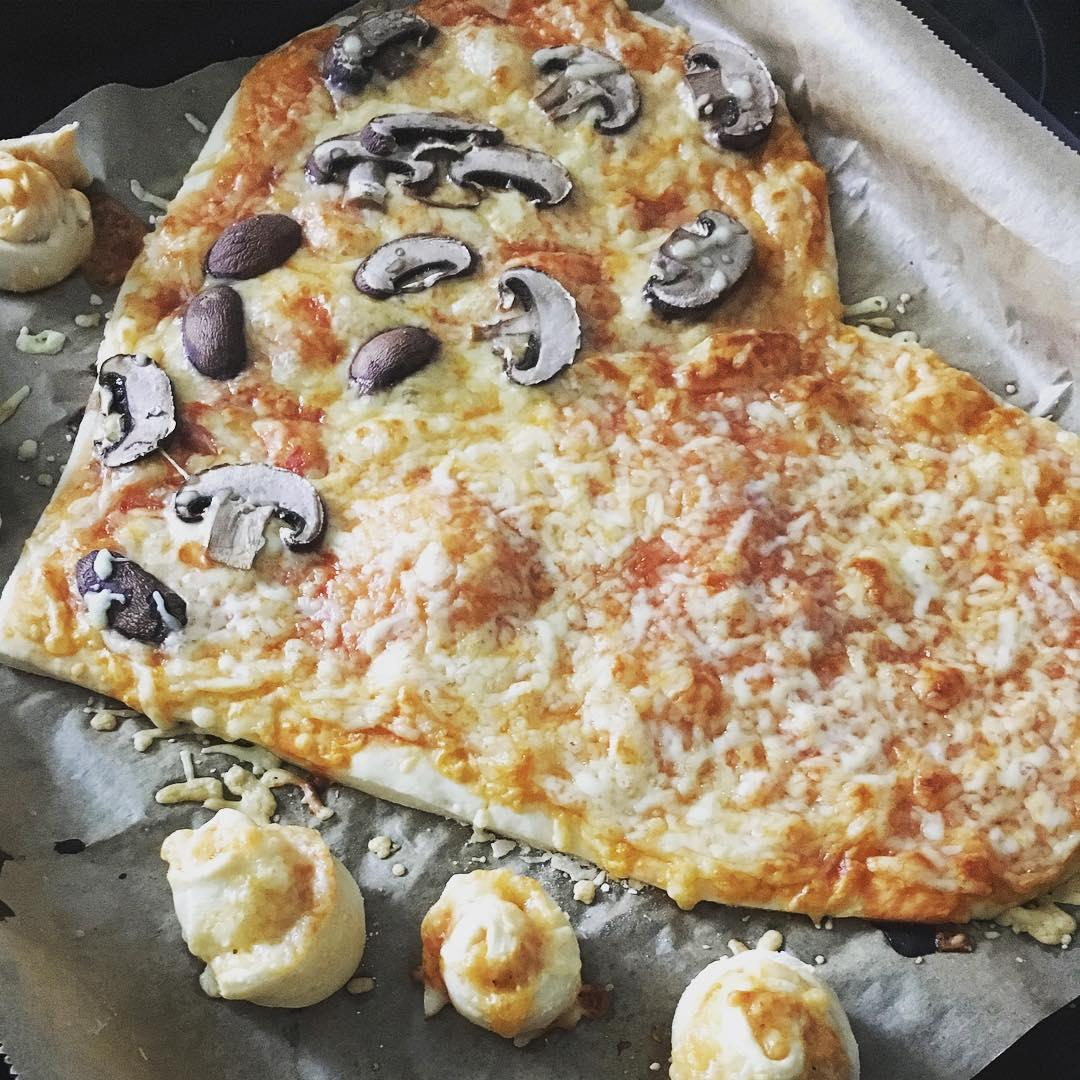Cheese: (343, 413, 1073, 737)
Mushroom: (371, 105, 576, 206), (175, 461, 346, 580), (636, 210, 755, 329), (468, 253, 571, 389), (83, 348, 177, 473), (300, 118, 435, 205), (316, 15, 453, 99), (673, 28, 769, 145), (77, 544, 190, 636), (531, 41, 637, 129), (350, 230, 471, 297), (345, 313, 441, 395), (203, 218, 303, 277), (179, 299, 245, 383)
Pizza: (0, 0, 1080, 920)
